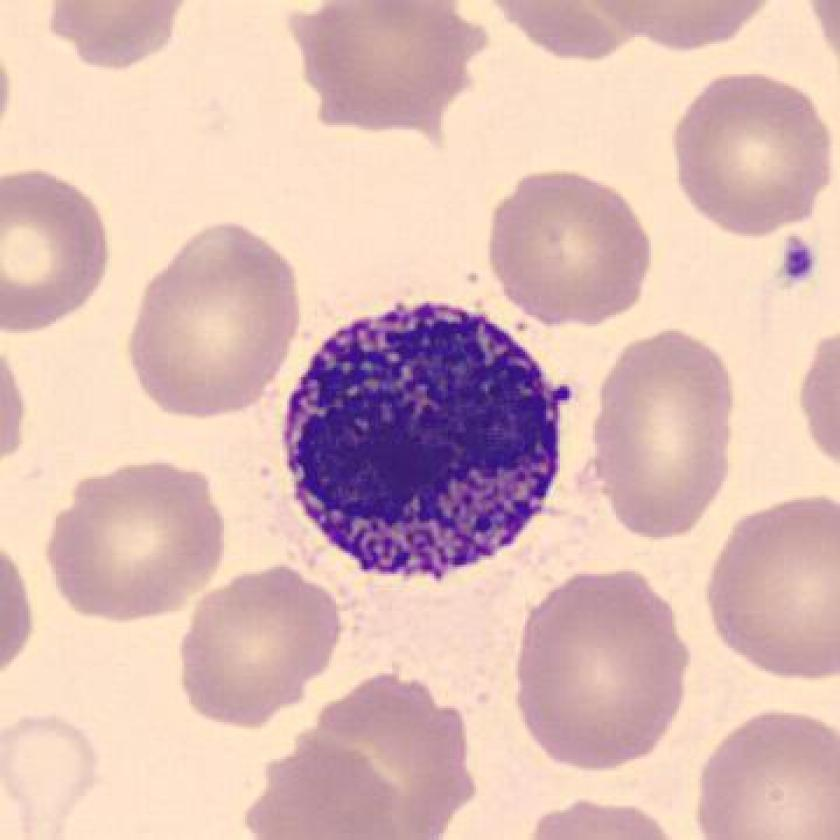basophil: (276, 297, 582, 591)
